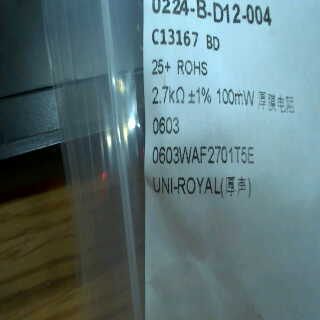2.7kR: (150, 83, 189, 105)
